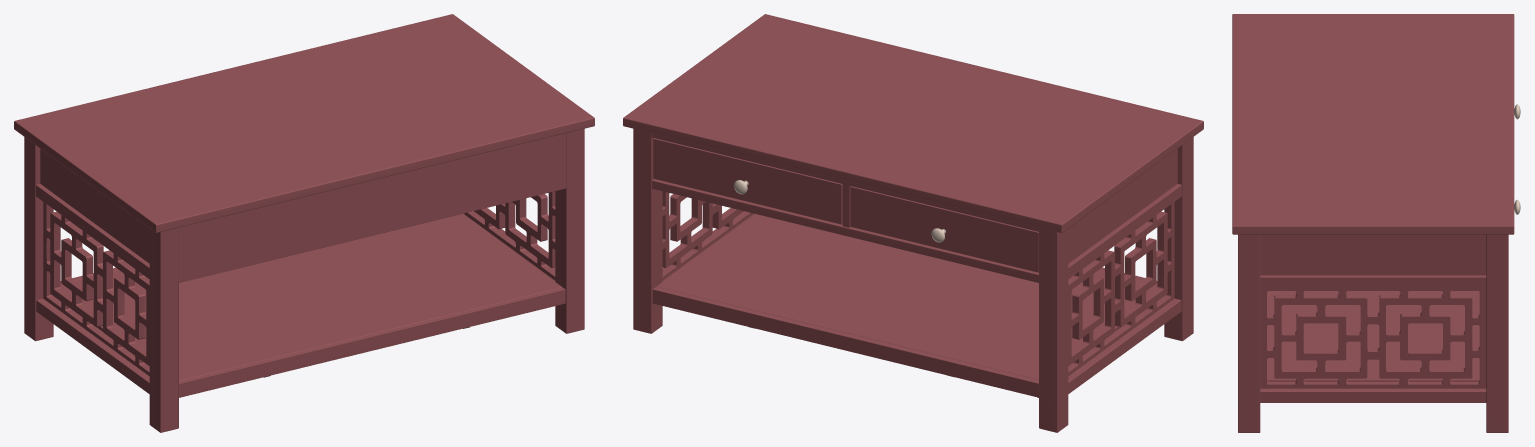
The model's file is abo_B07MFYTP3Z.glb.
The picture shows the model from 3 angles, left to right: view 1: azimuth 30°, elevation 25°; view 2: azimuth 150°, elevation 25°; view 3: azimuth 270°, elevation 25°; orthographic projection.
Parts seen in each view (by area): view 1: RootNode; view 2: RootNode; view 3: RootNode.
Boxes of the visible parts, x1,y1,x2,y2 form: RootNode: [14, 14, 594, 432]; RootNode: [623, 14, 1203, 432]; RootNode: [1232, 14, 1520, 432].
Bounding box in the file's own units: 1.07 × 0.4935 × 0.6123.
1 material, 1 textured.
